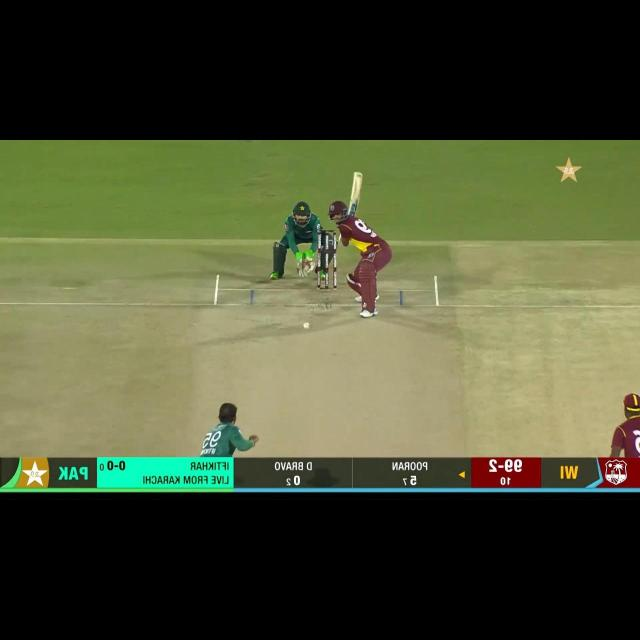bat: (352, 173, 364, 212)
toe: (351, 172, 365, 182)
